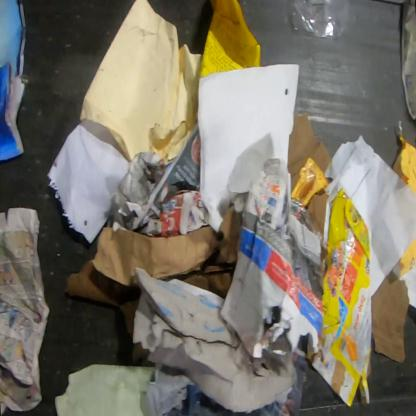cardboard: (218, 158, 324, 359), (310, 186, 373, 408), (89, 224, 237, 287), (198, 0, 262, 80), (371, 269, 410, 364), (392, 134, 415, 196), (398, 234, 415, 280)
rigid_plastic: (288, 0, 351, 40)
soft_plastic: (291, 157, 329, 208)
